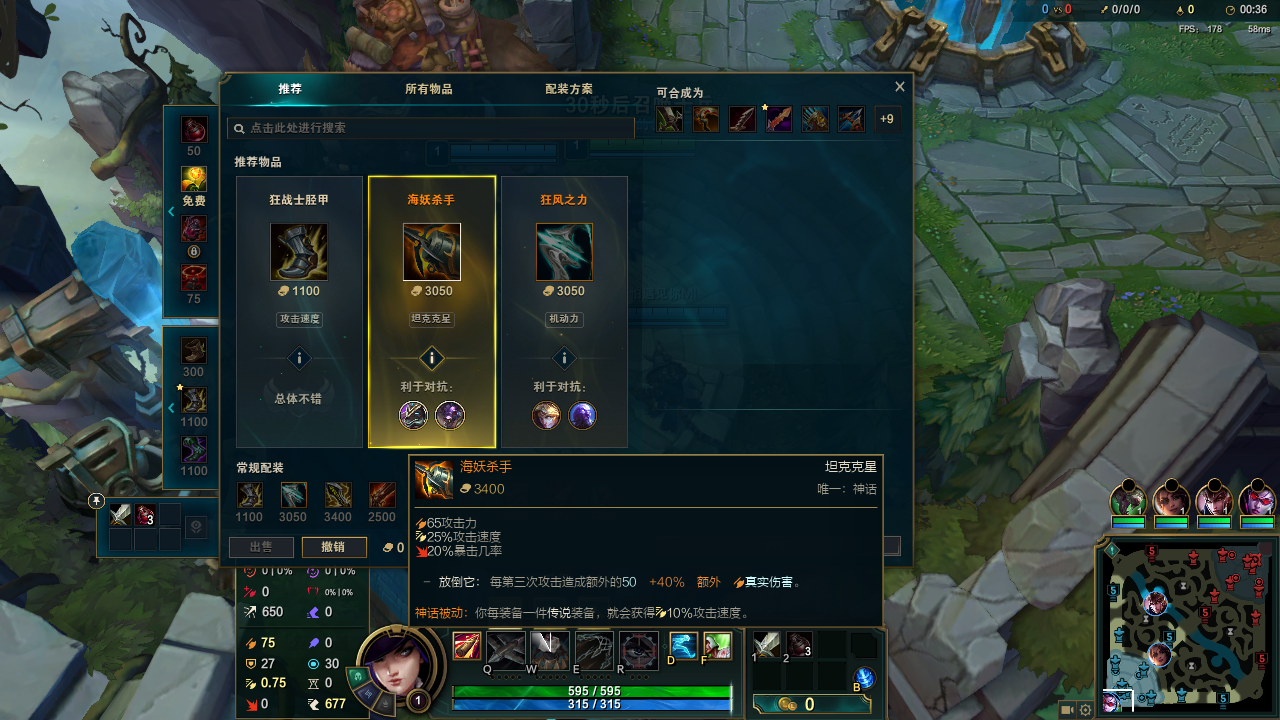GTH: (285, 340, 314, 371), (549, 347, 584, 371)
TJJM: (246, 72, 332, 109)
Yita: (1216, 689, 1232, 709)
